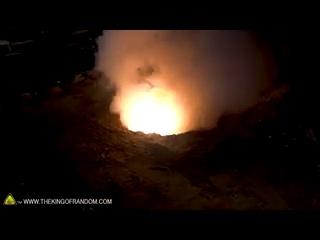Fire: (124, 75, 191, 131)
